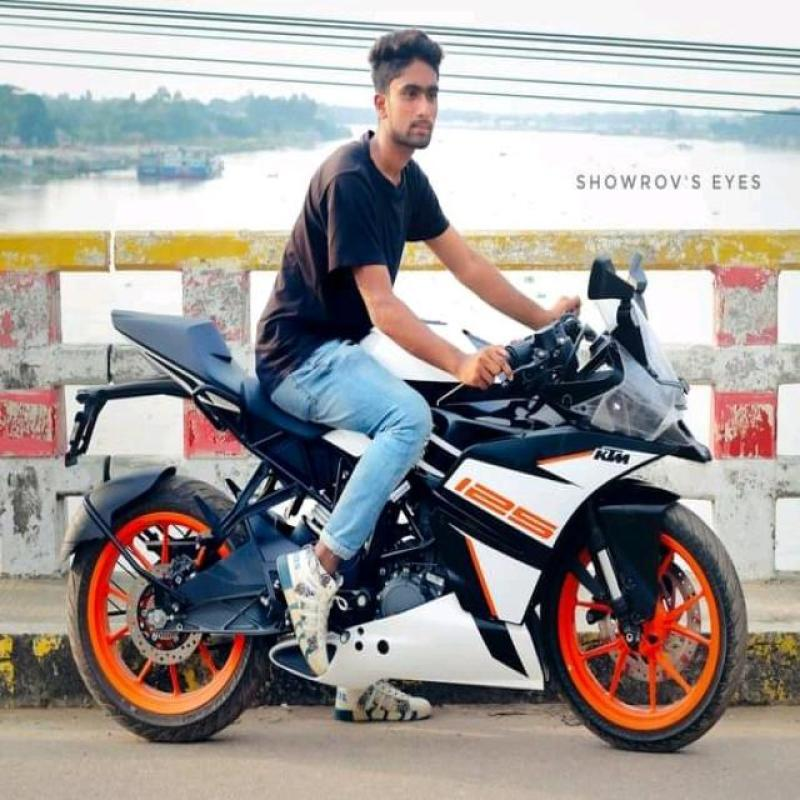nohelmet: (342, 26, 470, 144)
